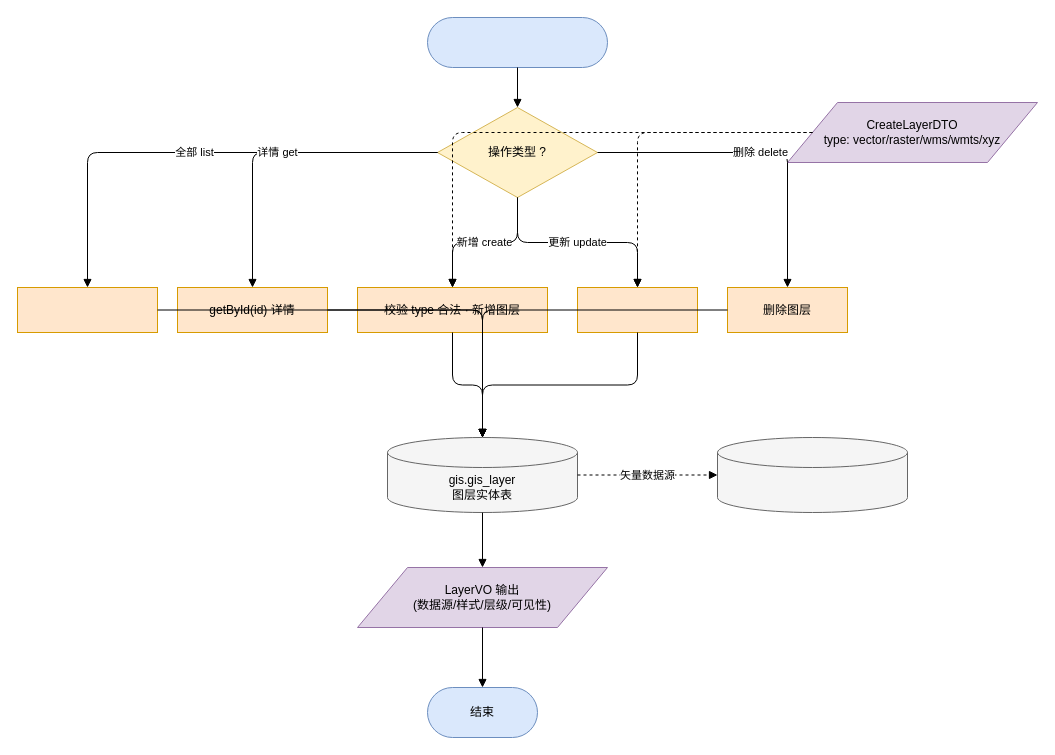
Image size: 1055x755. Some labels were removed from this diagram. Each missing label, with the centre of its shape:
"listAll() 全部" goes at (x=87, y=309).
"source_url 指向 GisData GeoJSON" goes at (x=812, y=474).
"开始 · 图层管理请求" goes at (x=517, y=42).
"更新图层" goes at (x=637, y=309).
